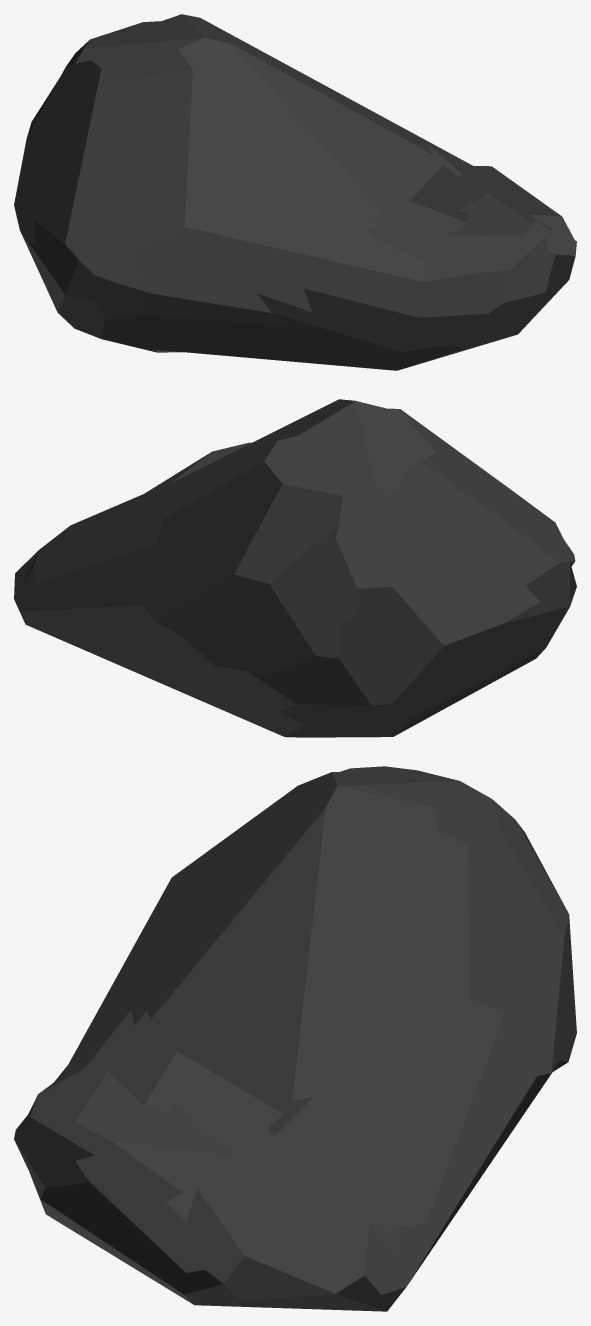
File: Rock03.fbx
The picture shows the model from 3 angles, top to bottom: view 1: azimuth 30°, elevation 25°; view 2: azimuth 150°, elevation 25°; view 3: azimuth 270°, elevation 25°; orthographic projection. The views are drawn at different scales.
Parts seen in each view (by area): view 1: Rock03; view 2: Rock03; view 3: Rock03.
Part boxes in pixels (x1,y1,x2,y2): Rock03: [14, 14, 576, 370]; Rock03: [14, 399, 576, 737]; Rock03: [14, 766, 576, 1311].
Bounding box in the file's own units: 1116 × 690 × 876.
